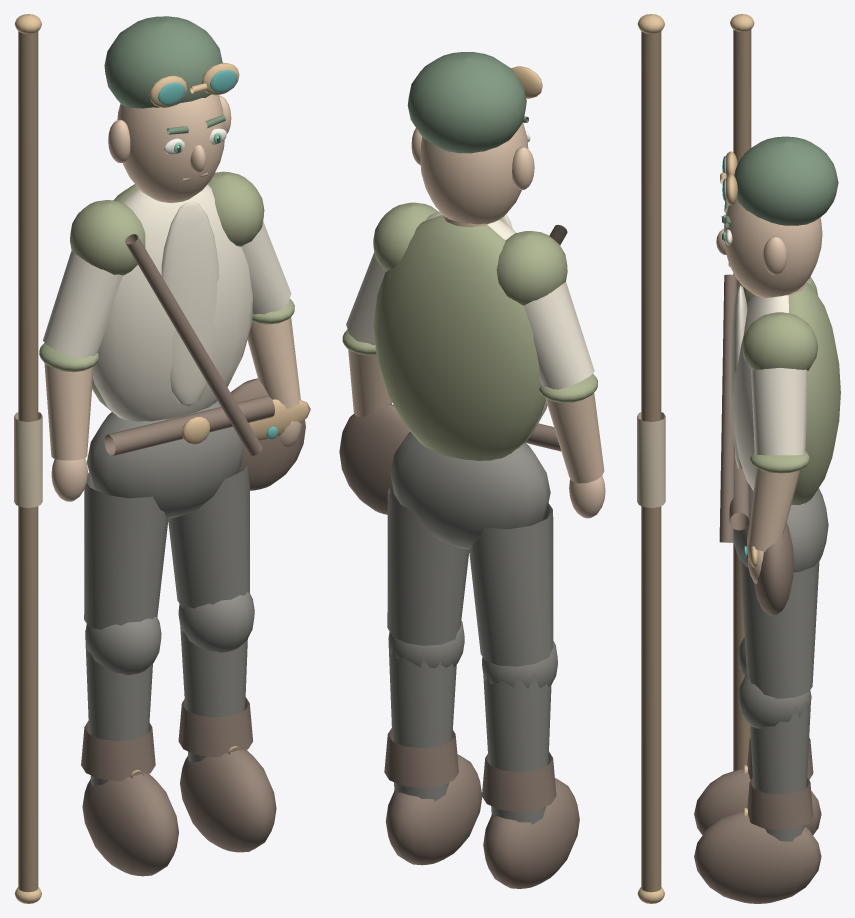
The model's file is Ender.glb.
3 views of the same model, side by side, from view 1: azimuth 30°, elevation 25°; view 2: azimuth 150°, elevation 25°; view 3: azimuth 270°, elevation 25° (orthographic). The views are drawn at different scales.
Parts seen in each view (by area): view 1: Ender_lookdev; view 2: Ender_lookdev; view 3: Ender_lookdev.
Boxes of the visible parts, x1=… form: Ender_lookdev: x1=14, y1=14, x2=310, y2=903; Ender_lookdev: x1=339, y1=14, x2=665, y2=903; Ender_lookdev: x1=694, y1=14, x2=840, y2=903.
Size of the model in its own units: 0.6706 by 1.86 by 0.311.
